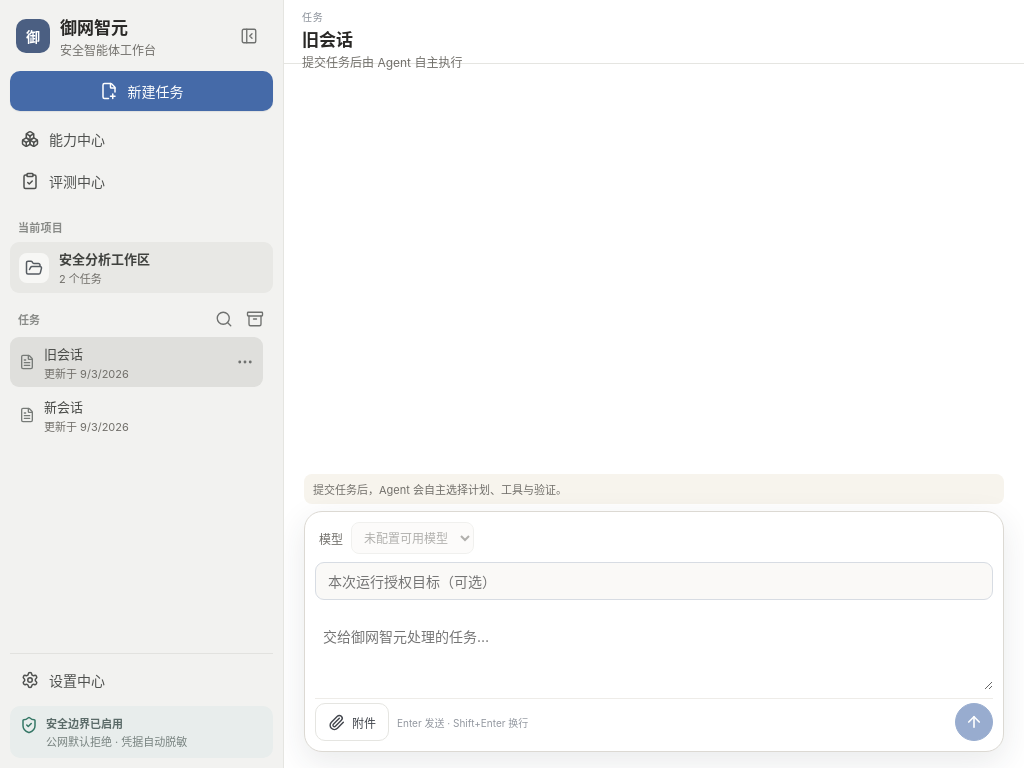
Test case: App › 切换会话后忽略旧消息请求的迟到结果，也不把旧草稿变成新会话的重试
The width and height of the screenshot is (1024, 768).
Type "旧会话迟到回复" into the text box named "消息" at (654, 653), box [315,616,993,690]
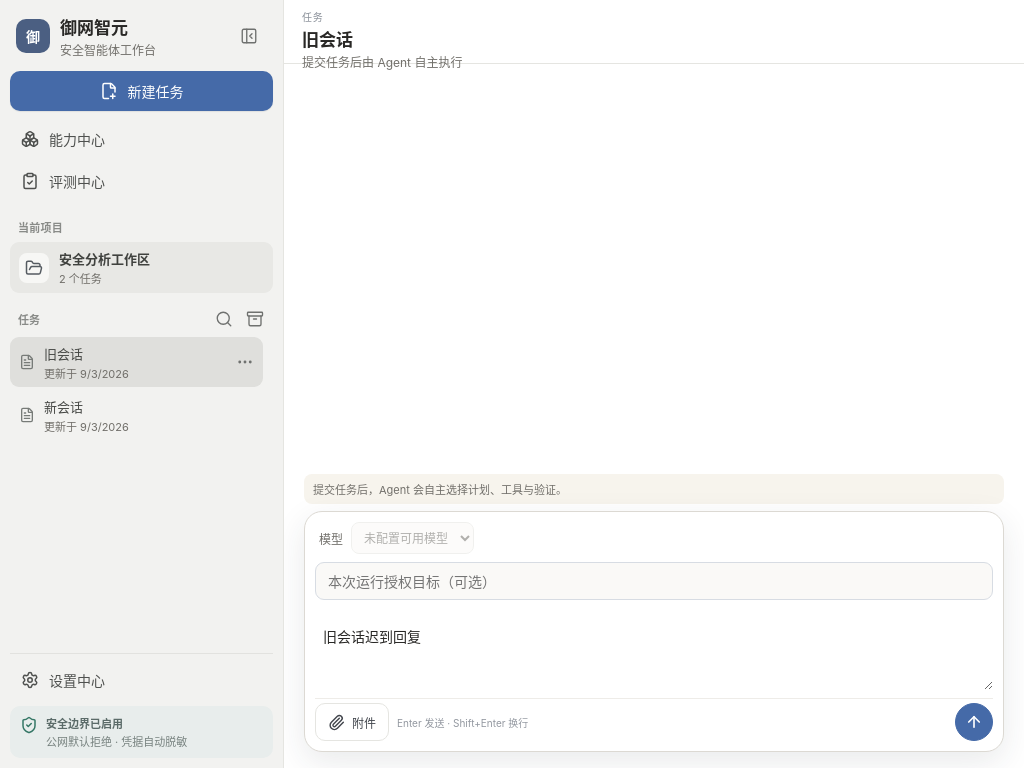
Press Enter in the text box named "消息", box [315,616,993,690]
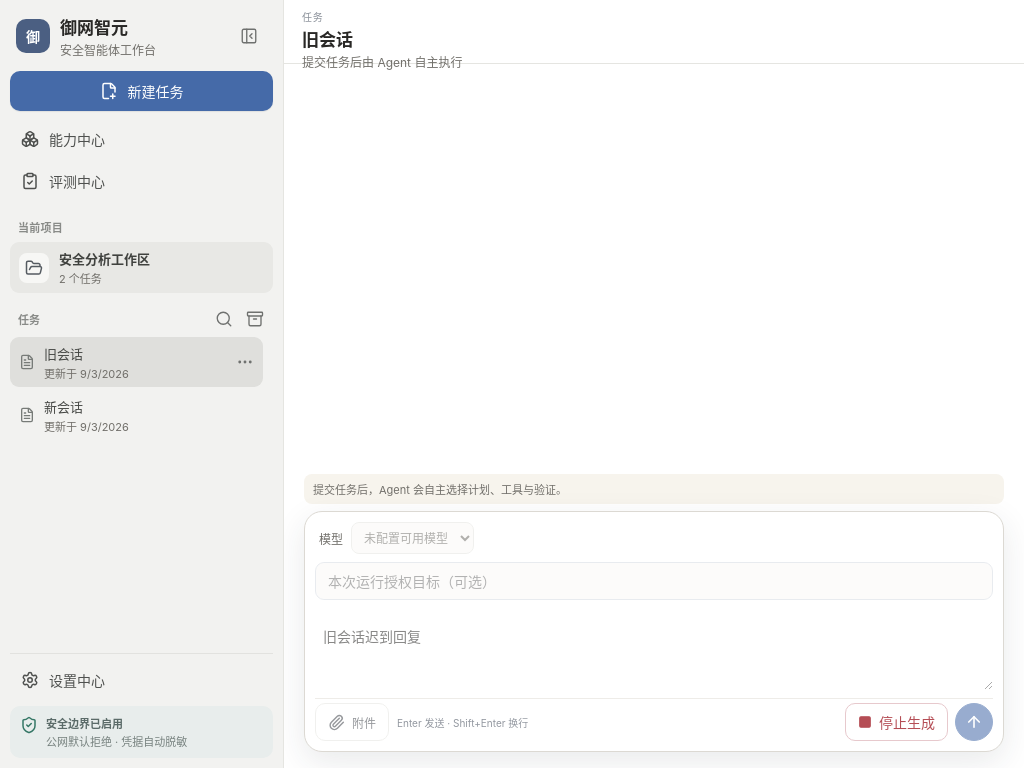
Click the text "新会话" at (64, 406), box [44,398,83,414]
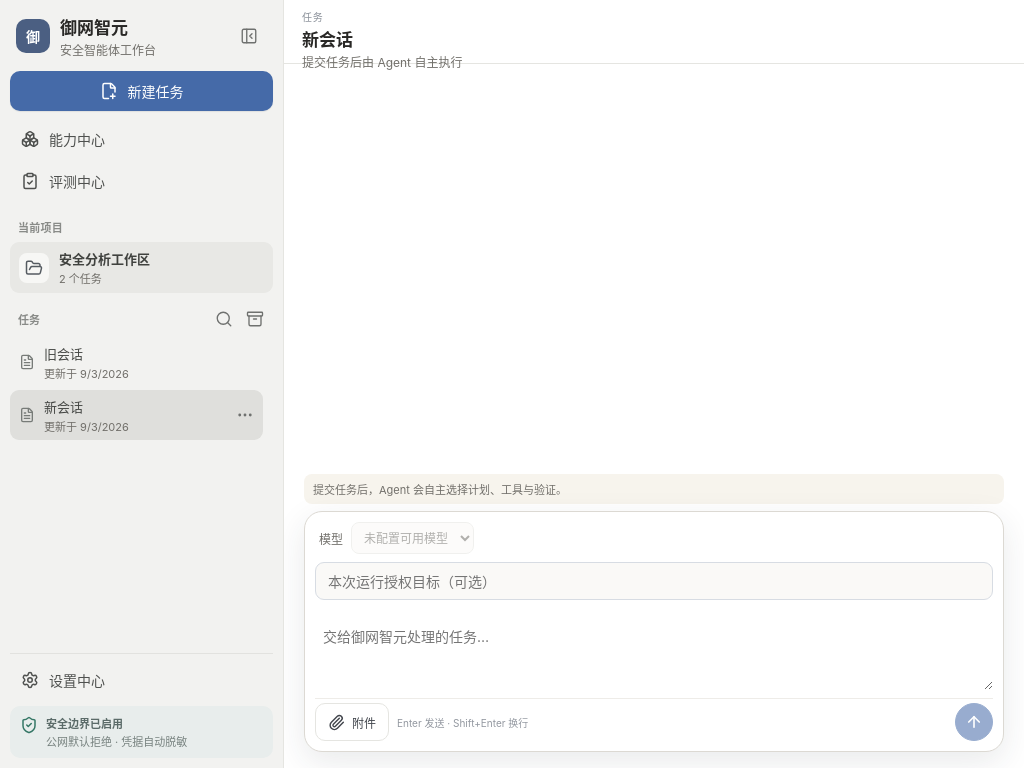
Expected: the text "旧会话迟到回复" is not shown
Now the text box named "消息" is empty, box [315,616,993,690]
Now the element with test id "thread-heading" shows "新会话", box [302,30,353,50]
